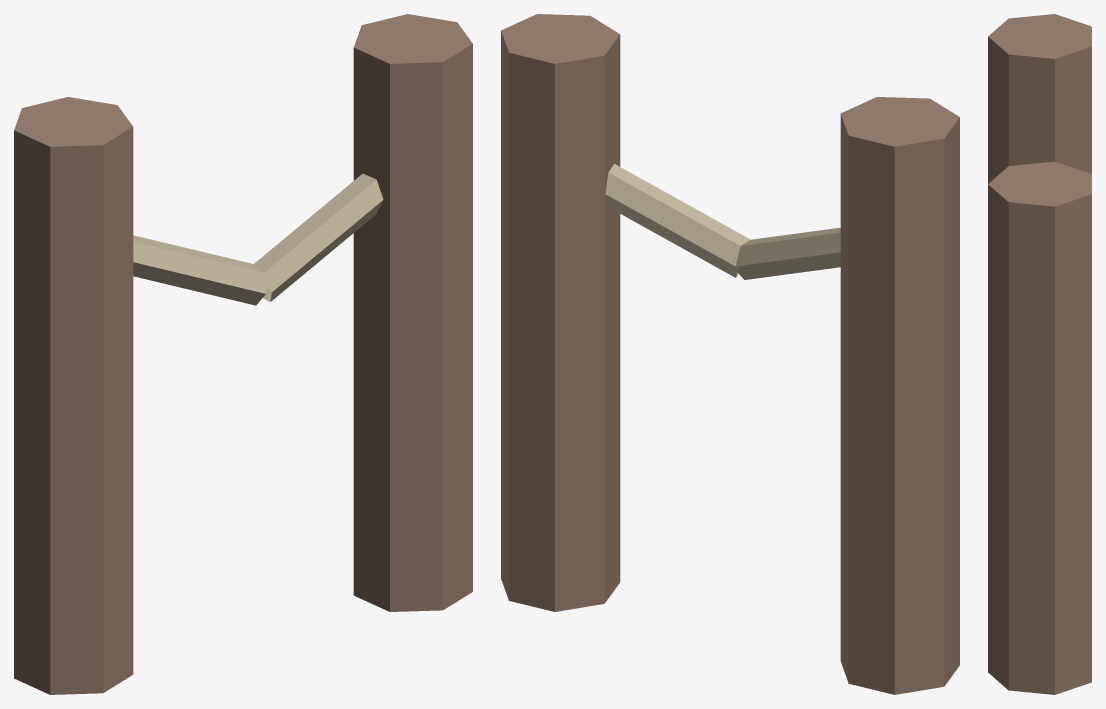
The picture shows the model from 3 angles, left to right: view 1: azimuth 30°, elevation 25°; view 2: azimuth 150°, elevation 25°; view 3: azimuth 270°, elevation 25°; orthographic projection. The views are drawn at different scales.
Visible parts, largest first — view 1: H09; view 2: H09; view 3: H09.
Boxes of the visible parts, left/top/right/bottom form: H09: left=14, top=14, right=472, bottom=694; H09: left=501, top=14, right=959, bottom=694; H09: left=988, top=14, right=1091, bottom=694.
Bounding box in the file's own units: 0.6262 × 0.74 × 0.1426.
